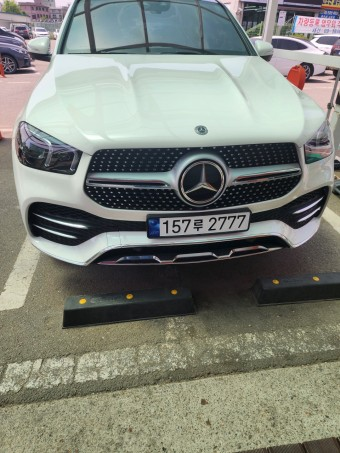car: (145, 210, 252, 234)
